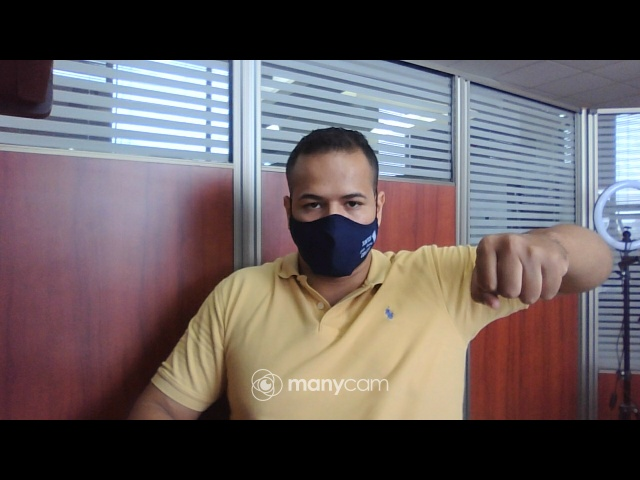Yes: (467, 227, 570, 316)
